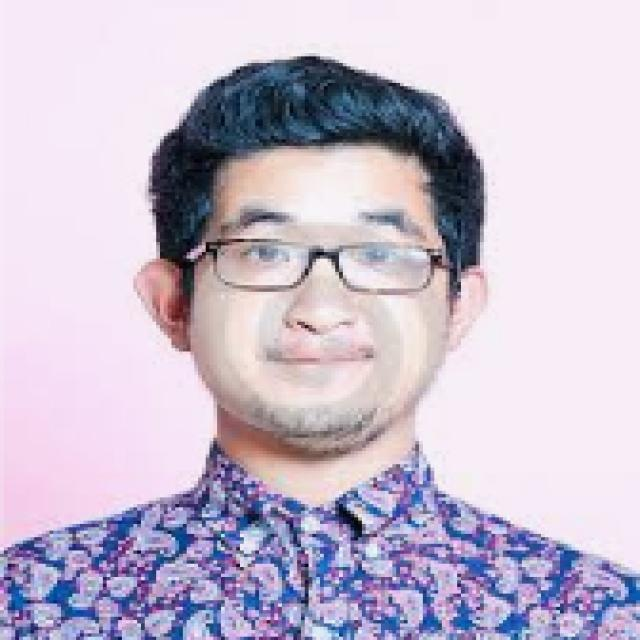glasses: (157, 68, 467, 441)
